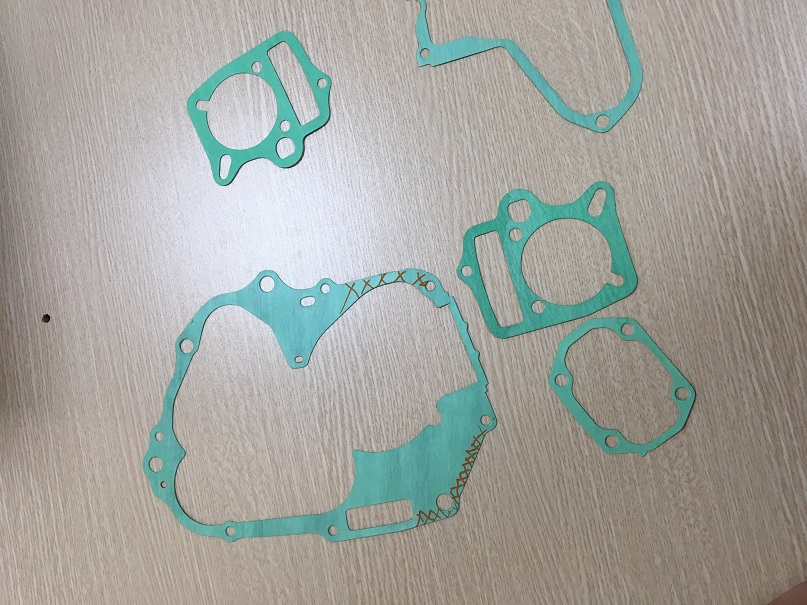type2: (553, 309, 697, 460)
type3: (139, 259, 507, 565)
type4: (453, 179, 646, 340), (179, 27, 345, 193)
